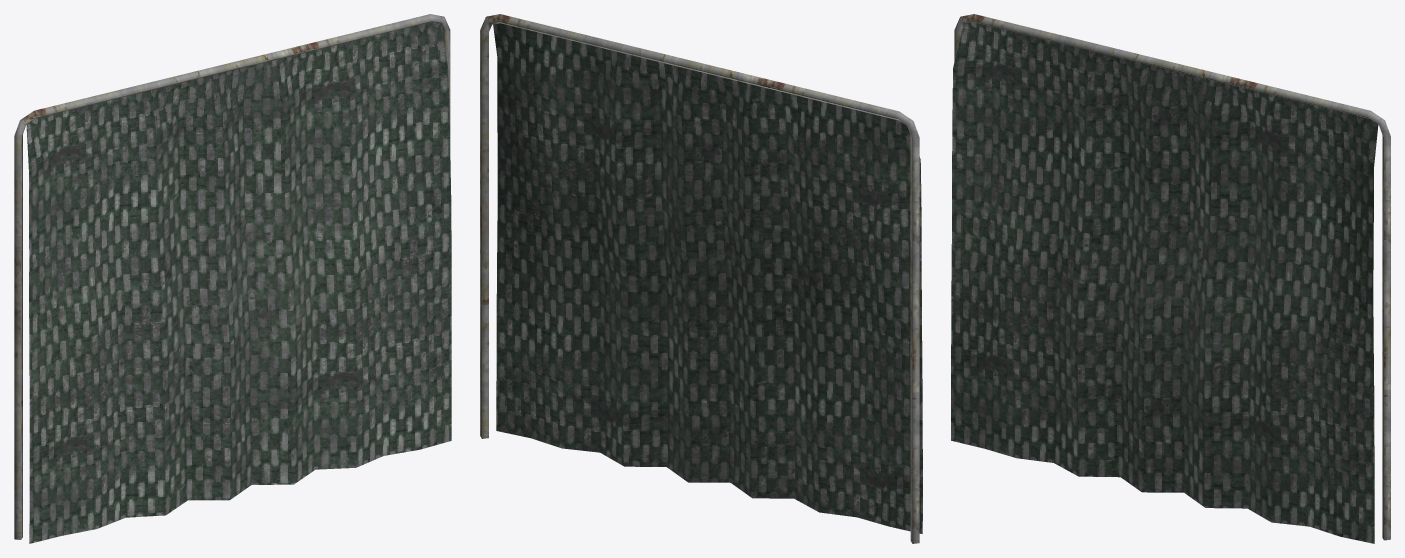
The model's file is _Curtains_L1.FBX.
3 renders of one model, left to right at view 1: azimuth 30°, elevation 25°; view 2: azimuth 150°, elevation 25°; view 3: azimuth 330°, elevation 25°, orthographic.
Visible parts, largest first — view 1: _Curtains_L1; view 2: _Curtains_L1; view 3: _Curtains_L1.
Boxes of the visible parts, box(x1,y1,x2,y2) form: _Curtains_L1: box(14, 14, 451, 543); _Curtains_L1: box(480, 14, 922, 543); _Curtains_L1: box(951, 14, 1390, 543).
Bounding box in the file's own units: 200 × 186 × 13.59.
2 materials, 2 textured.
